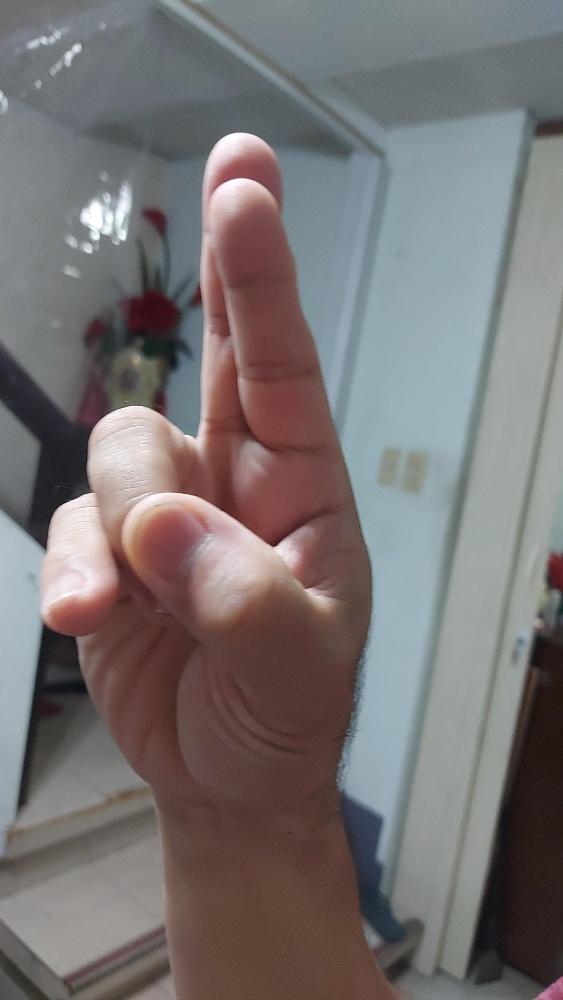r: (39, 131, 374, 815)
